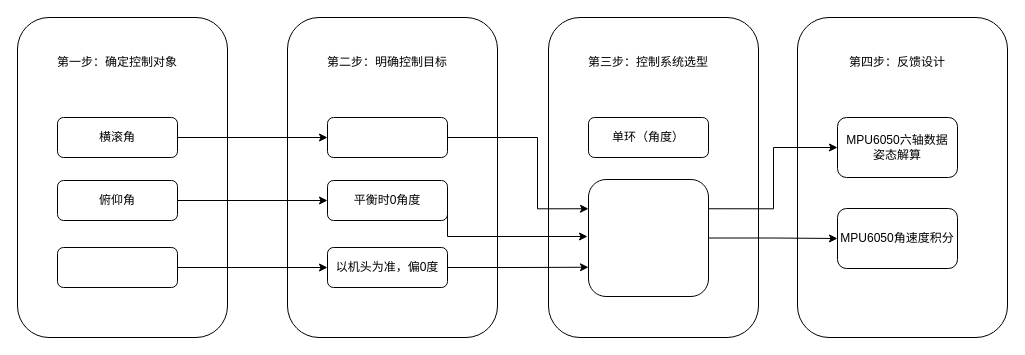
This 1025x355 diagram has some shape labels left out. Here are the shapes that lost their labels. From the top down, the centre of each, then its label:
At point (387, 137): "平衡时0转速".
At point (648, 237): "串级（角度+角速度） 控制速度、控制稳定性更高".
At point (117, 267): "偏航角".
